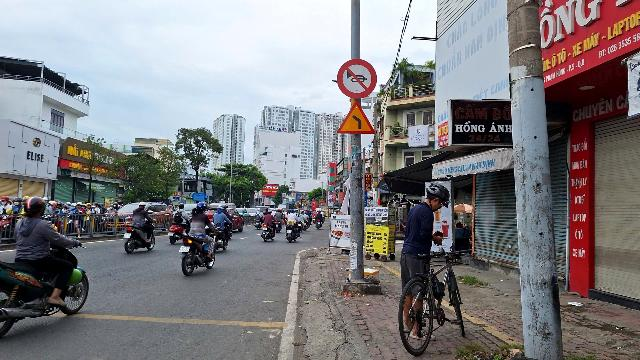cam-bop-coi: (337, 58, 377, 99)
cho-ngoat-nguy-hiem-ben-trai: (337, 100, 375, 134)
